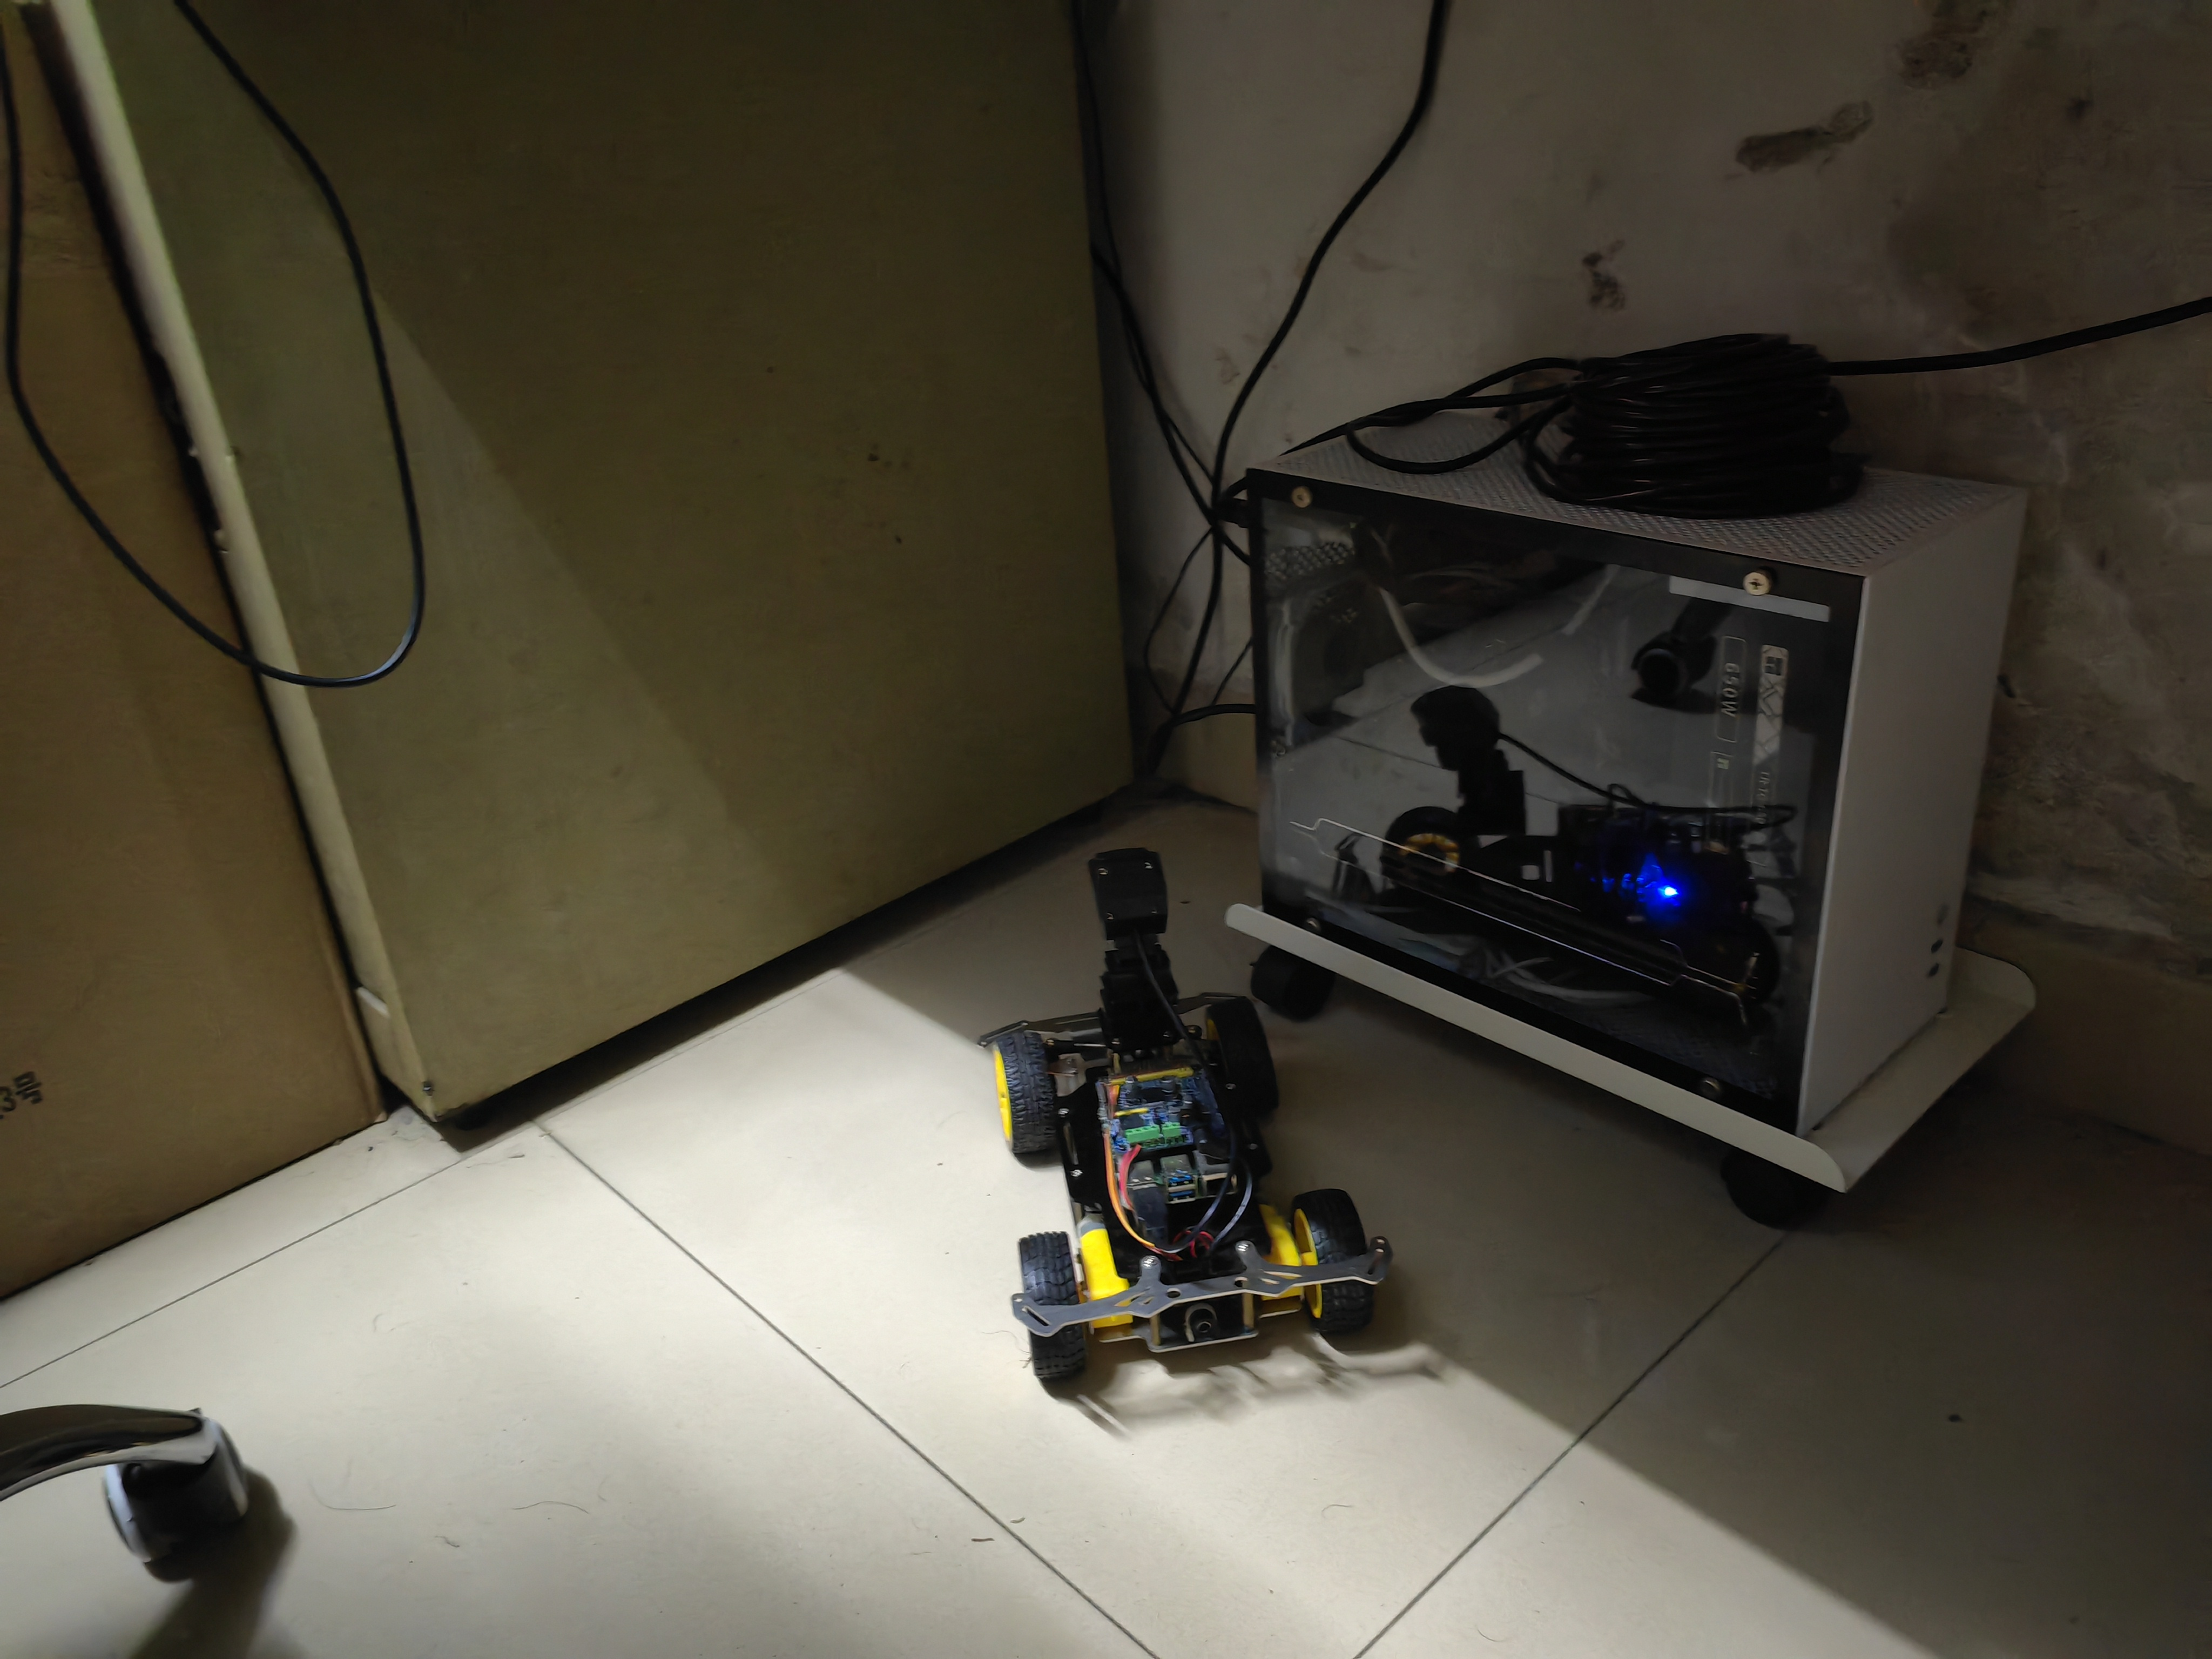car: (918, 842, 1402, 1412)
